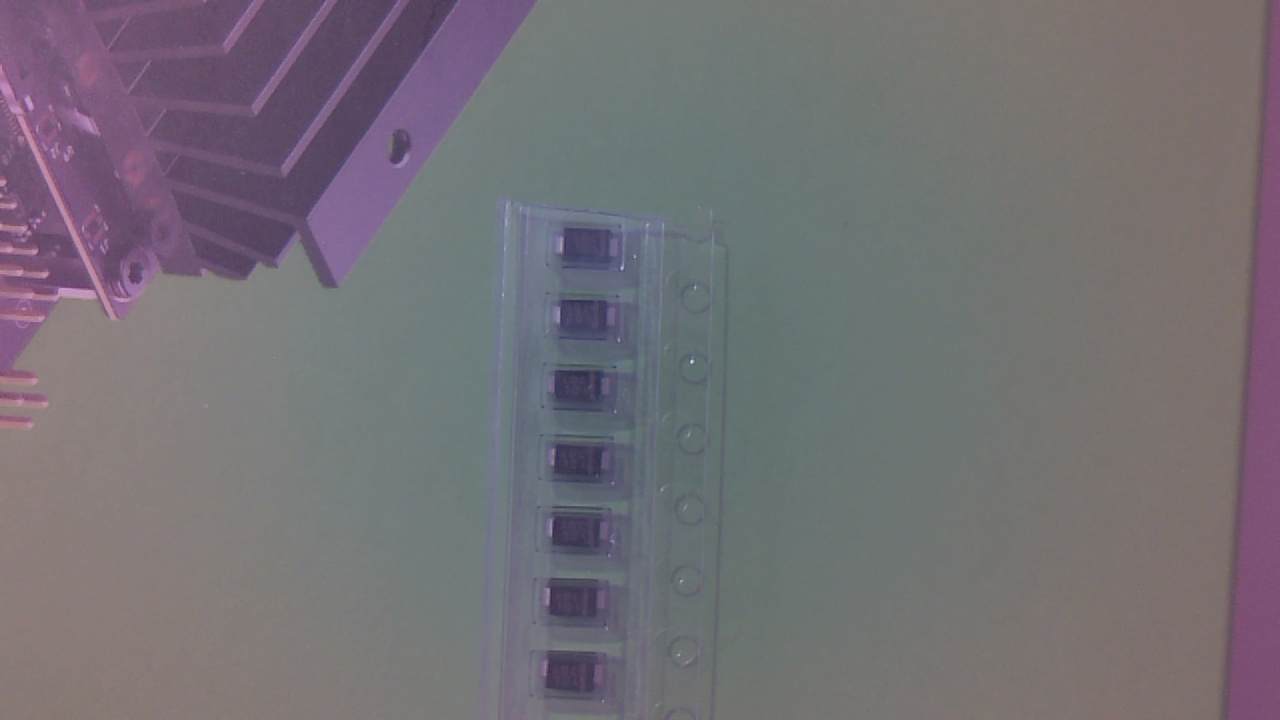Diode: (544, 586, 613, 626), (546, 658, 612, 699), (555, 302, 624, 340), (551, 516, 619, 554), (551, 372, 617, 410), (557, 230, 623, 267), (551, 447, 619, 481)
